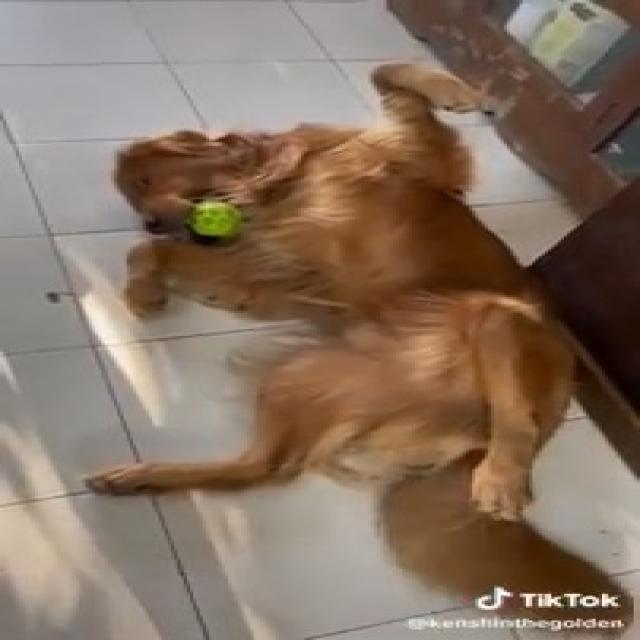dogs: (55, 58, 627, 592)
